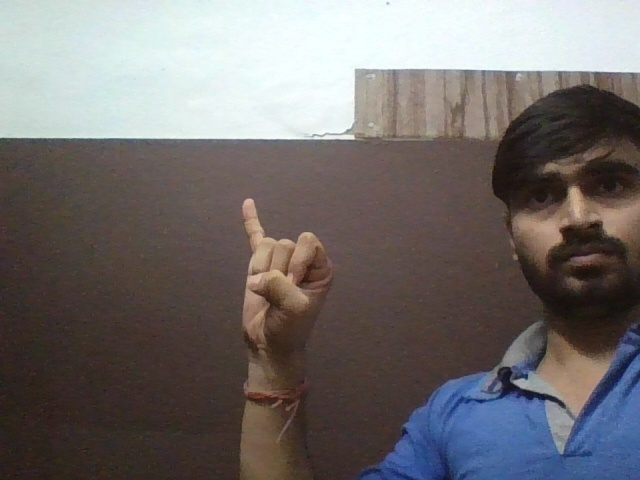I: (235, 191, 351, 381)
